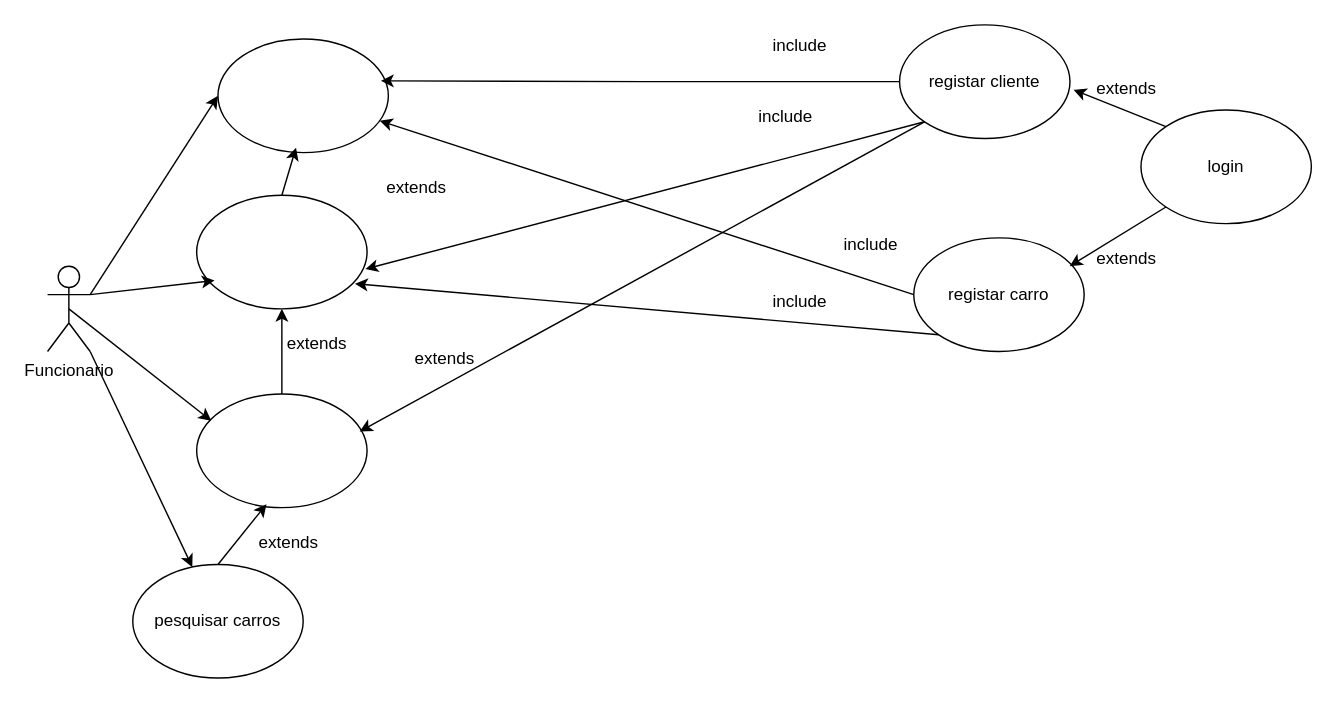
The diagram is 1336 pixels wide and 703 high, and some of its shapes have lost their labels. Each missing label, with the box of its shape:
registar contratos de aluger: (217, 38, 388, 153)
registar devolucoes de automoveis: (195, 393, 367, 508)
registar entregas de automoveis: (195, 194, 367, 309)
